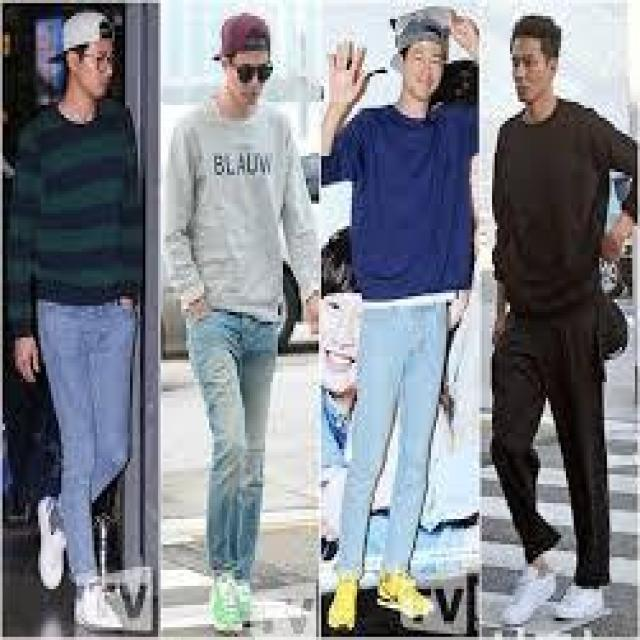pants: (490, 309, 630, 589), (336, 290, 462, 589), (28, 292, 150, 584), (182, 300, 287, 592)
sweater: (314, 75, 492, 301), (477, 95, 637, 338), (164, 95, 320, 325), (8, 88, 140, 330)
